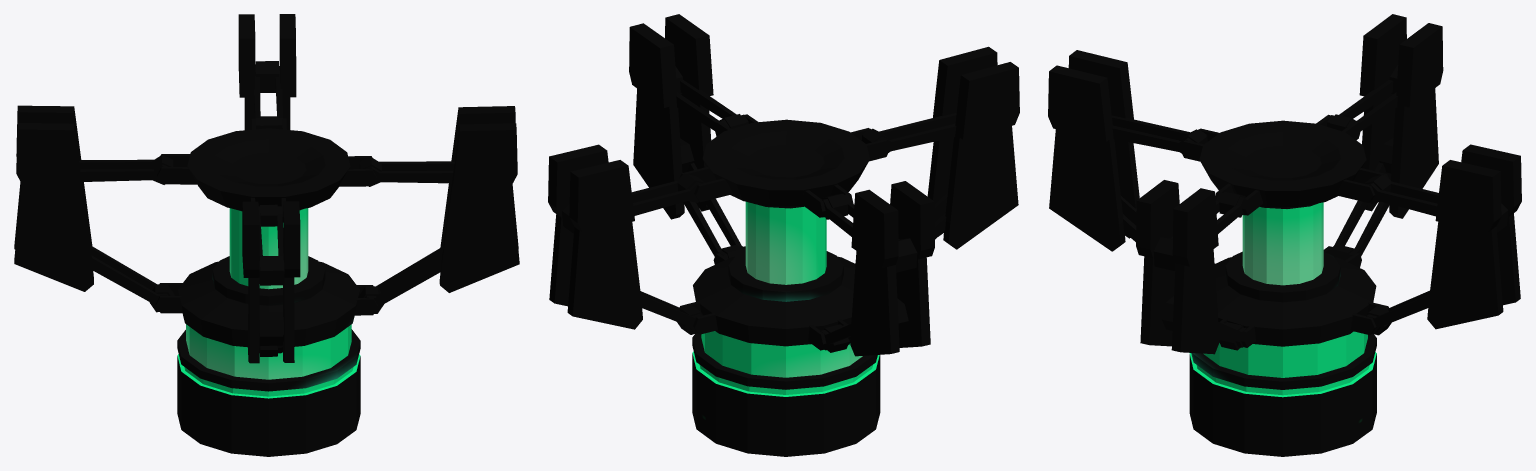
Rendered from shield_generator_top_emissive.obj.
3 renders of one model, left to right at view 1: azimuth 30°, elevation 25°; view 2: azimuth 150°, elevation 25°; view 3: azimuth 270°, elevation 25°, orthographic. The views are drawn at different scales.
Visible parts, largest first — view 1: Shield_generatorgroup30_Shield_generatorgroup29_Shield_generator; view 2: Shield_generatorgroup30_Shield_generatorgroup29_Shield_generator; view 3: Shield_generatorgroup30_Shield_generatorgroup29_Shield_generator.
Boxes of the visible parts, left/top/right/bottom form: Shield_generatorgroup30_Shield_generatorgroup29_Shield_generator: left=14, top=14, right=519, bottom=456; Shield_generatorgroup30_Shield_generatorgroup29_Shield_generator: left=548, top=14, right=1019, bottom=456; Shield_generatorgroup30_Shield_generatorgroup29_Shield_generator: left=1048, top=14, right=1521, bottom=456.
Size of the model in its own units: 0.7448 by 0.5308 by 0.7491.
